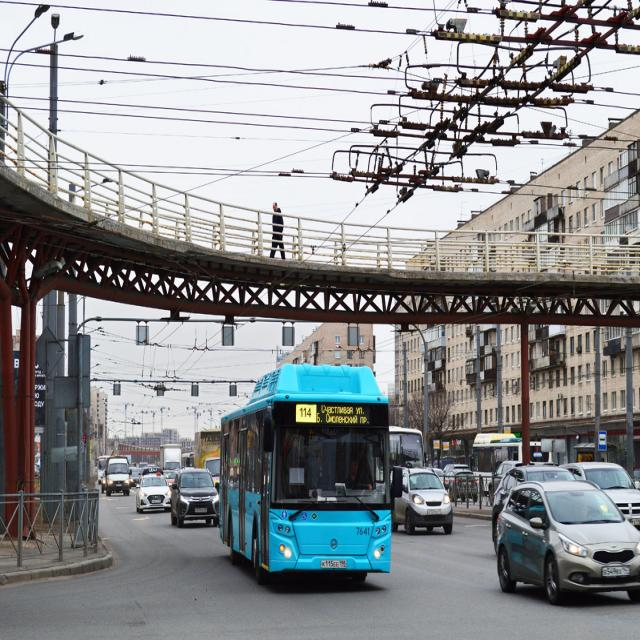number-of-bus: (300, 408, 314, 421)
